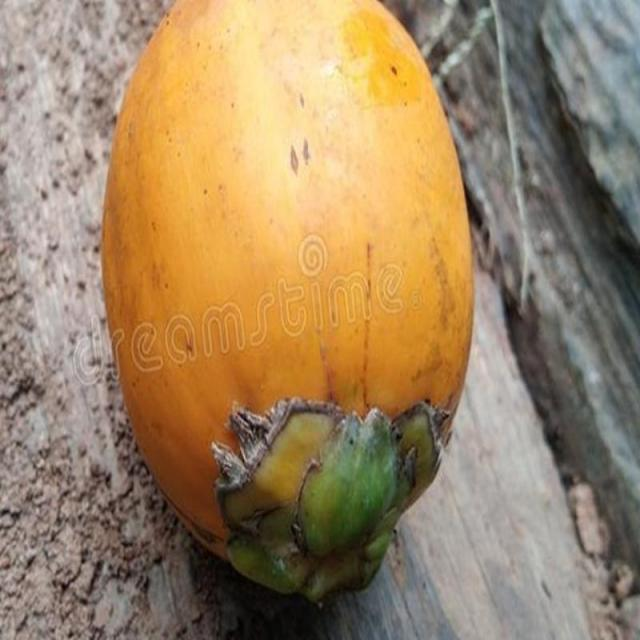good: (101, 0, 476, 623)
